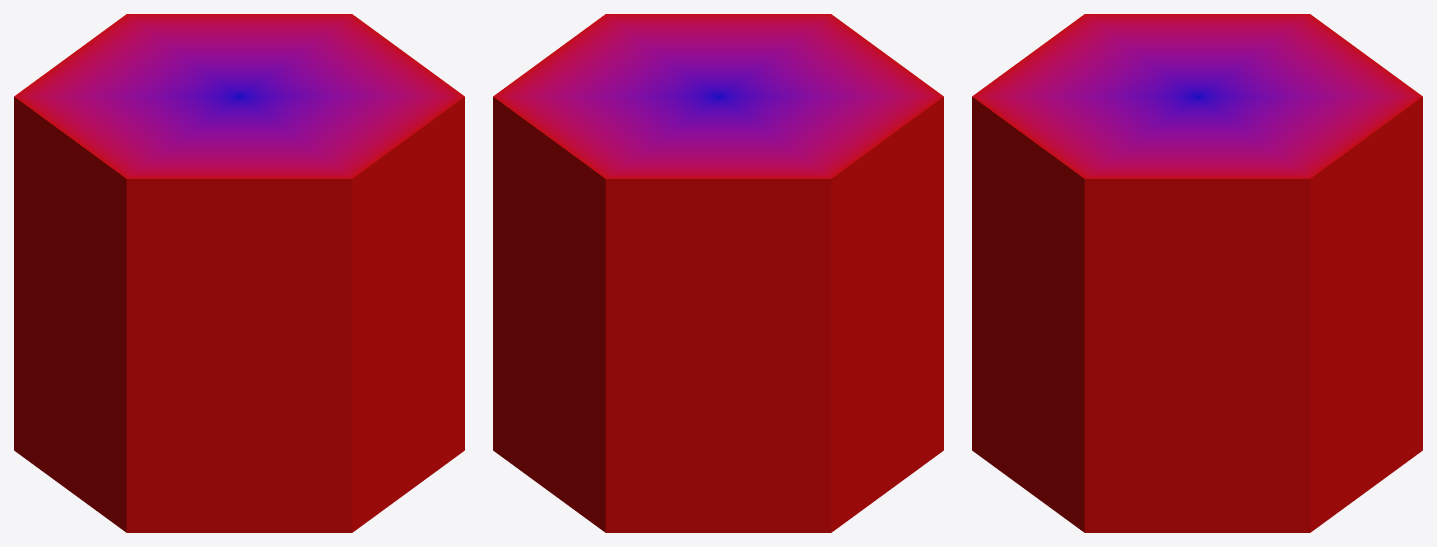
File: hexagon.fbx
3 views of the same model, side by side, from view 1: azimuth 30°, elevation 25°; view 2: azimuth 150°, elevation 25°; view 3: azimuth 270°, elevation 25° (orthographic).
Parts seen in each view (by area): view 1: Hex; view 2: Hex; view 3: Hex.
Boxes of the visible parts, bbox=[...] form: Hex: bbox=[14, 14, 464, 532]; Hex: bbox=[493, 14, 943, 532]; Hex: bbox=[972, 14, 1422, 532].
Size of the model in its own units: 0.02 by 0.02 by 0.0231.
